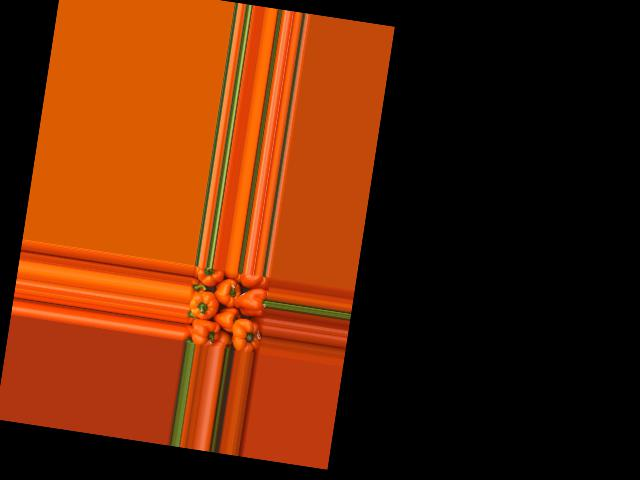bell_pepper: (239, 273, 271, 290)
